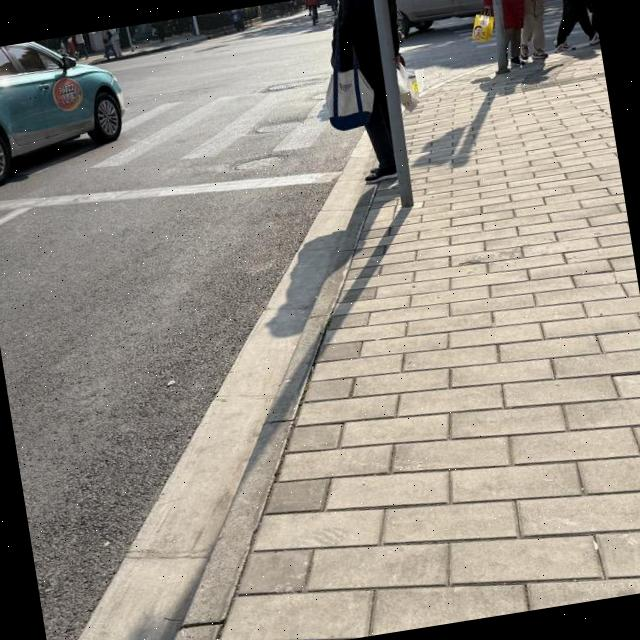curb: (174, 185, 378, 640)
